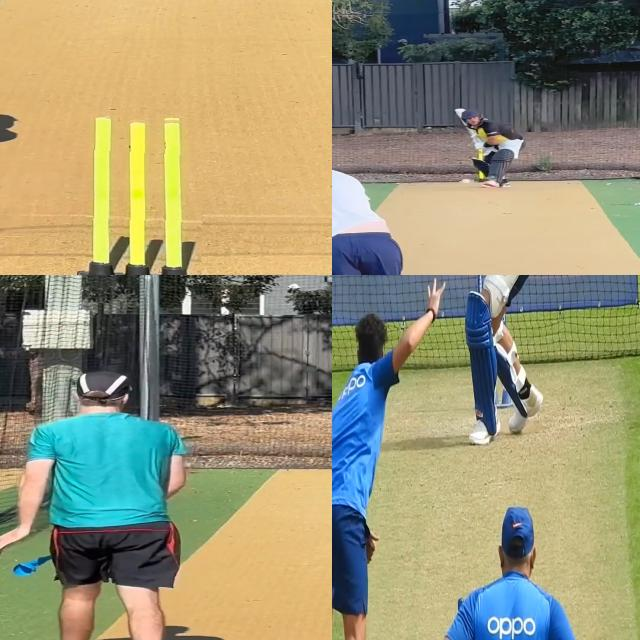Cricket ball: (459, 180, 474, 186)
Stumps: (77, 115, 203, 275)
